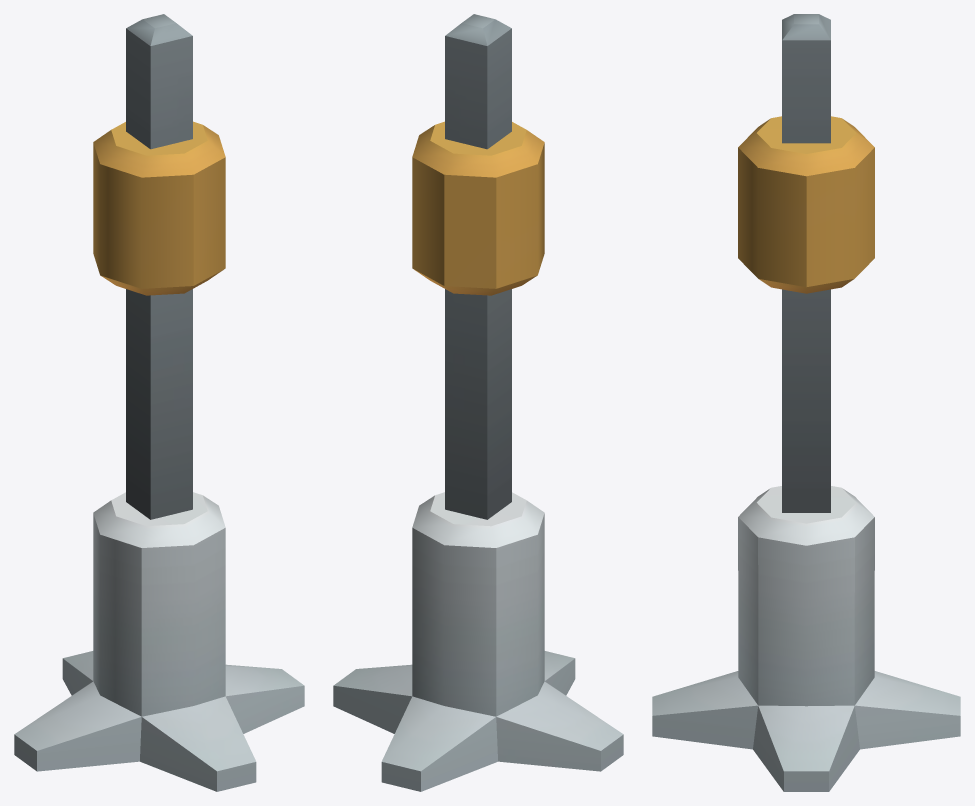
The model's file is windturbine_tall.glb.
3 views of the same model, side by side, from view 1: azimuth 30°, elevation 25°; view 2: azimuth 150°, elevation 25°; view 3: azimuth 270°, elevation 25° (orthographic).
Visible parts, largest first — view 1: windturbine_tall_Cube.15108; view 2: windturbine_tall_Cube.15108; view 3: windturbine_tall_Cube.15108.
Boxes of the visible parts, <box> form: windturbine_tall_Cube.15108: <box>14,14,304,791</box>; windturbine_tall_Cube.15108: <box>333,14,623,791</box>; windturbine_tall_Cube.15108: <box>652,14,960,791</box>.
Size of the model in its own units: 0.68 by 1.72 by 0.68.
1 material, 1 textured.
